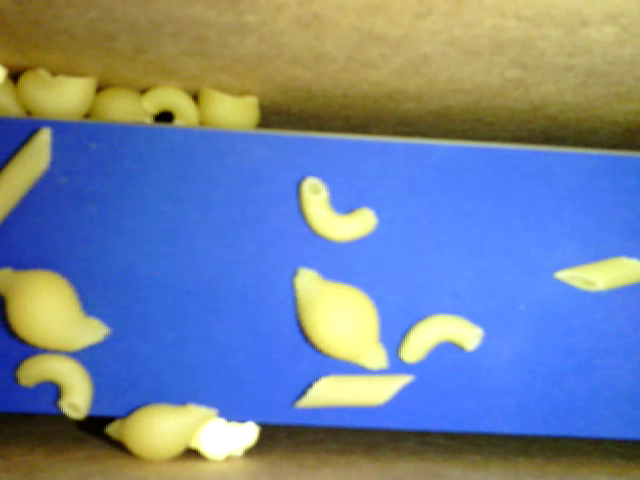elbow: (300, 176, 380, 242), (17, 354, 93, 419), (397, 311, 483, 364), (142, 84, 201, 127)
penne: (1, 123, 51, 231), (294, 373, 415, 409), (552, 254, 639, 294)
shell: (293, 267, 389, 370), (1, 269, 112, 350), (105, 401, 219, 460), (15, 67, 98, 120), (197, 84, 260, 128), (89, 87, 153, 124)
